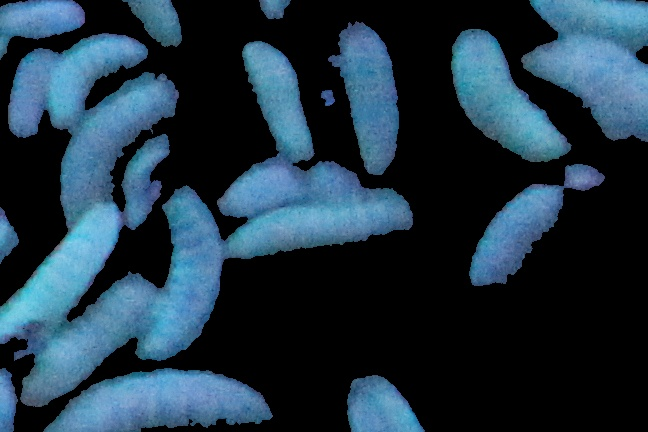larvae: (1, 191, 127, 375), (450, 18, 575, 160), (54, 80, 177, 221), (23, 270, 144, 403), (146, 186, 226, 362), (221, 194, 426, 260), (59, 368, 267, 432), (526, 44, 648, 141), (475, 162, 564, 292), (236, 34, 322, 167), (341, 18, 403, 172), (46, 31, 143, 121), (524, 1, 648, 50), (10, 49, 56, 138), (1, 1, 84, 44), (123, 1, 193, 44)
